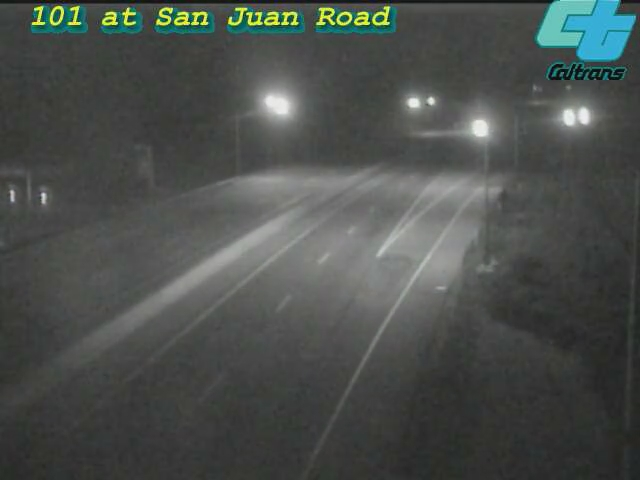vehicle: (455, 106, 505, 156), (546, 93, 596, 143), (558, 91, 608, 141)
